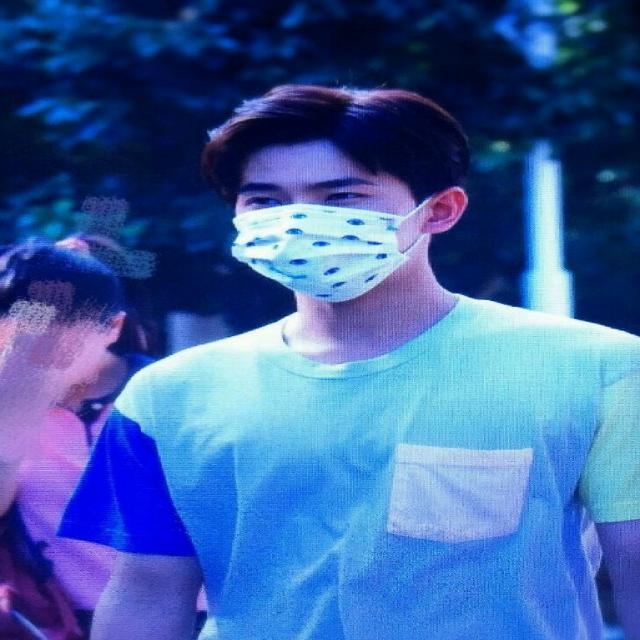mask: (237, 148, 407, 302)
